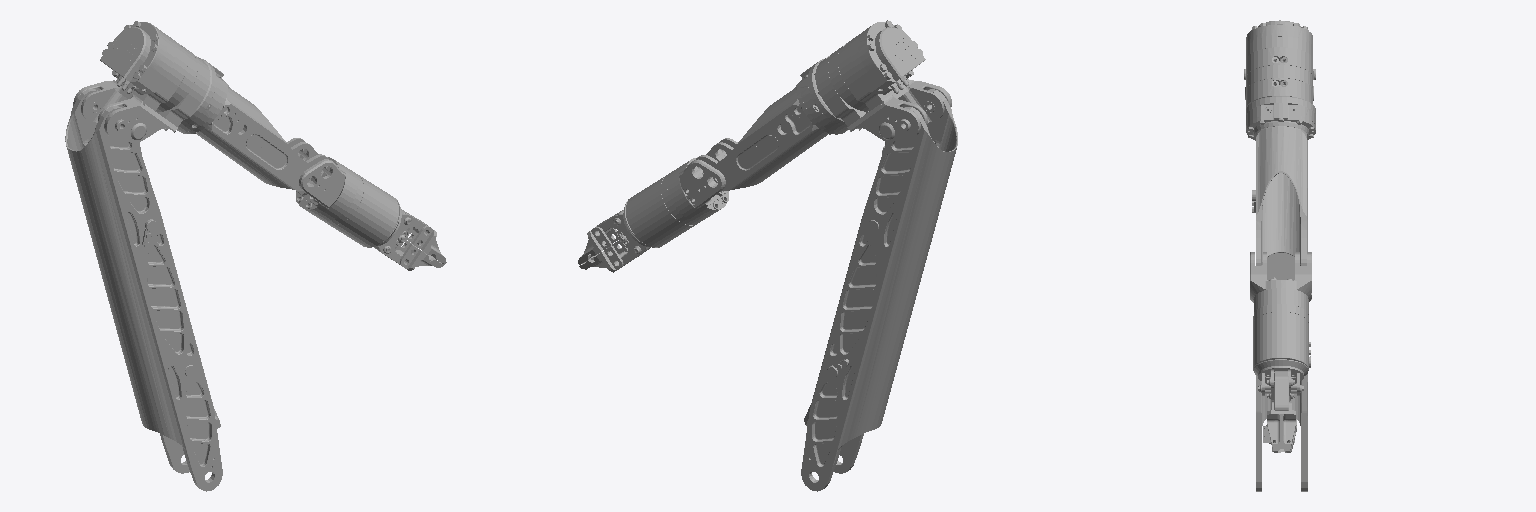
The robot description file, URDF, robot "orion":
<?xml version="1.0" encoding="utf-8"?>
<robot name="orion">
  <!-- ROV + 左臂模型（来自 rov_urdf/orion_left.urdf），mesh 路径相对本 urdf：meshes/stl/ -->
  <!-- 规划用碰撞体与 visual 一致；需在 web/robot/meshes/stl/ 下放置 arm_base_link_left.stl 与 Link1..Link8.stl -->
  <!-- KDL 要求根 link 无惯性，故增加虚拟根 world，arm_base_link 为其固定子 link -->

  <!-- ==================== LINKS ==================== -->

  <link name="world">
    <!-- 虚拟根，无几何无惯性，仅用于满足 KDL 对根 link 的要求 -->
  </link>

  <joint name="world_joint" type="fixed">
    <parent link="world"/>
    <child link="arm_base_link"/>
    <origin xyz="0.0 0.0 0.0" rpy="0.0 0.0 0.0"/>
  </joint>

  <link name="arm_base_link">
    <visual>
      <geometry><mesh filename="meshes/stl/arm_base_link_left.stl"/></geometry>
      <material name="grey"><color rgba="0.7 0.7 0.7 1.0"/></material>
    </visual>
    <!-- 碰撞用简单 box，避免 ROV mesh 顶点过多导致 PlanningScene 超时；尺寸可依实机调整 -->
    <collision>
      <origin xyz="0.0 0.0 0.0" rpy="0.0 0.0 0.0"/>
      <geometry><box size="0.6 0.4 0.35"/></geometry>
    </collision>
    <inertial>
      <mass value="1.0"/>
      <inertia ixx="0.01" ixy="0.0" ixz="0.0" iyy="0.01" iyz="0.0" izz="0.01"/>
    </inertial>
  </link>

  <link name="Link1">
    <visual>
      <geometry><mesh filename="meshes/stl/Link1.stl"/></geometry>
      <material name="grey"><color rgba="0.7 0.7 0.7 1.0"/></material>
    </visual>
    <collision>
      <geometry><mesh filename="meshes/stl/Link1.stl"/></geometry>
    </collision>
    <inertial>
      <mass value="1.0"/>
      <inertia ixx="0.01" ixy="0.0" ixz="0.0" iyy="0.01" iyz="0.0" izz="0.01"/>
    </inertial>
  </link>

  <link name="Link2">
    <visual>
      <geometry><mesh filename="meshes/stl/Link2.stl"/></geometry>
      <material name="grey"><color rgba="0.7 0.7 0.7 1.0"/></material>
    </visual>
    <collision>
      <geometry><mesh filename="meshes/stl/Link2.stl"/></geometry>
    </collision>
    <inertial>
      <mass value="1.0"/>
      <inertia ixx="0.01" ixy="0.0" ixz="0.0" iyy="0.01" iyz="0.0" izz="0.01"/>
    </inertial>
  </link>

  <link name="Link3">
    <visual>
      <geometry><mesh filename="meshes/stl/Link3.stl"/></geometry>
      <material name="grey"><color rgba="0.7 0.7 0.7 1.0"/></material>
    </visual>
    <collision>
      <geometry><mesh filename="meshes/stl/Link3.stl"/></geometry>
    </collision>
    <inertial>
      <mass value="1.0"/>
      <inertia ixx="0.01" ixy="0.0" ixz="0.0" iyy="0.01" iyz="0.0" izz="0.01"/>
    </inertial>
  </link>

  <link name="LinkVirtual">
    <inertial>
      <mass value="0.001"/>
      <inertia ixx="0.0001" ixy="0.0" ixz="0.0" iyy="0.0001" iyz="0.0" izz="0.0001"/>
    </inertial>
  </link>

  <link name="Link4">
    <visual>
      <geometry><mesh filename="meshes/stl/Link4.stl"/></geometry>
      <material name="grey"><color rgba="0.7 0.7 0.7 1.0"/></material>
    </visual>
    <collision>
      <geometry><mesh filename="meshes/stl/Link4.stl"/></geometry>
    </collision>
    <inertial>
      <mass value="1.0"/>
      <inertia ixx="0.01" ixy="0.0" ixz="0.0" iyy="0.01" iyz="0.0" izz="0.01"/>
    </inertial>
  </link>

  <link name="Link5">
    <visual>
      <geometry><mesh filename="meshes/stl/Link5.stl"/></geometry>
      <material name="grey"><color rgba="0.7 0.7 0.7 1.0"/></material>
    </visual>
    <collision>
      <geometry><mesh filename="meshes/stl/Link5.stl"/></geometry>
    </collision>
    <inertial>
      <mass value="1.0"/>
      <inertia ixx="0.01" ixy="0.0" ixz="0.0" iyy="0.01" iyz="0.0" izz="0.01"/>
    </inertial>
  </link>

  <link name="Link6">
    <visual>
      <geometry><mesh filename="meshes/stl/Link6.stl"/></geometry>
      <material name="grey"><color rgba="0.7 0.7 0.7 1.0"/></material>
    </visual>
    <collision>
      <geometry><mesh filename="meshes/stl/Link6.stl"/></geometry>
    </collision>
    <inertial>
      <mass value="1.0"/>
      <inertia ixx="0.01" ixy="0.0" ixz="0.0" iyy="0.01" iyz="0.0" izz="0.01"/>
    </inertial>
  </link>

  <!-- 夹爪 TCP：用于规划/IK 的末端参考点（Link6 +Z 方向的接触点附近） -->
  <link name="gripper_tcp"/>

  <!-- 插孔专用 IK 参考点（与 src/sealien_ctrlpilot_manipulator_orion_description/urdf/orion.urdf 保持同步） -->
  <link name="peg_tip"/>

  <link name="Link7">
    <visual>
      <geometry><mesh filename="meshes/stl/Link7.stl"/></geometry>
      <material name="grey"><color rgba="0.7 0.7 0.7 1.0"/></material>
    </visual>
    <collision>
      <geometry><mesh filename="meshes/stl/Link7.stl"/></geometry>
    </collision>
    <inertial>
      <mass value="1.0"/>
      <inertia ixx="0.01" ixy="0.0" ixz="0.0" iyy="0.01" iyz="0.0" izz="0.01"/>
    </inertial>
  </link>

  <link name="Link8">
    <visual>
      <geometry><mesh filename="meshes/stl/Link8.stl"/></geometry>
      <material name="grey"><color rgba="0.7 0.7 0.7 1.0"/></material>
    </visual>
    <collision>
      <geometry><mesh filename="meshes/stl/Link8.stl"/></geometry>
    </collision>
    <inertial>
      <mass value="1.0"/>
      <inertia ixx="0.01" ixy="0.0" ixz="0.0" iyy="0.01" iyz="0.0" izz="0.01"/>
    </inertial>
  </link>

  <!-- ==================== JOINTS ==================== -->
  <!-- 标称：方位/肩/肘/腕俯仰 ±120°；前臂 roll ±180°；腕 roll 连续；夹爪 ±90° -->

  <joint name="joint_arm_base_link_Link1" type="revolute">
    <parent link="arm_base_link"/>
    <child link="Link1"/>
    <origin xyz="0.0 0.0 0.0" rpy="0.0 0.0 0.0"/>
    <axis xyz="1 0 0"/>
    <limit lower="-2.09440" upper="2.09440" effort="100" velocity="1.0"/>
  </joint>

  <joint name="joint_Link1_Link2" type="revolute">
    <parent link="Link1"/>
    <child link="Link2"/>
    <origin xyz="-0.0105 0.0 0.0699" rpy="0.0 0.0 0.0"/>
    <axis xyz="0 1 0"/>
    <limit lower="-2.09440" upper="2.09440" effort="100" velocity="1.0"/>
  </joint>

  <joint name="joint_Link2_Link3" type="revolute">
    <parent link="Link2"/>
    <child link="Link3"/>
    <origin xyz="-0.2247 0.0 0.8662" rpy="0.0 0.0 0.0"/>
    <axis xyz="0 1 0"/>
    <limit lower="-2.09440" upper="2.09440" effort="100" velocity="1.0"/>
  </joint>

  <joint name="joint_Link3_LinkVirtual" type="fixed">
    <parent link="Link3"/>
    <child link="LinkVirtual"/>
    <origin xyz="0.1835 0.0 0.0157" rpy="0.0 -3.97248 0.0"/>
  </joint>

  <!-- J4：标称由 ±270° 收紧为 ±180°，与规划/仿真环绕稳定性一致 -->
  <joint name="joint_LinkVirtual_Link4" type="revolute">
    <parent link="LinkVirtual"/>
    <child link="Link4"/>
    <origin xyz="0.0 0.0 0.0" rpy="0.0 0.0 0.0"/>
    <axis xyz="0 0 1"/>
    <limit lower="-3.14159" upper="3.14159" effort="100" velocity="1.0"/>
  </joint>

  <joint name="joint_Link4_Link5" type="revolute">
    <parent link="Link4"/>
    <child link="Link5"/>
    <origin xyz="0.0 -0.0091 0.3784" rpy="0.0 0.0 0.0"/>
    <axis xyz="0 1 0"/>
    <limit lower="-2.09440" upper="2.09440" effort="100" velocity="1.0"/>
  </joint>

  <joint name="joint_Link5_Link6" type="revolute">
    <parent link="Link5"/>
    <child link="Link6"/>
    <origin xyz="-0.0113 0.0091 0.2516" rpy="0.0 0.0 0.0"/>
    <axis xyz="0 0 1"/>
    <limit lower="-3.14159" upper="3.14159" effort="100" velocity="1.0"/>
  </joint>

  <joint name="joint_Link6_gripper_tcp" type="fixed">
    <parent link="Link6"/>
    <child link="gripper_tcp"/>
    <!-- 规划 TCP：Link6 +Z 朝夹爪前方；z 较指间接触区略短会导致指尖够不到，略长则腕可稍后撤 -->
    <origin xyz="0.0 0.0 0.148" rpy="0.0 0.0 0.0"/>
  </joint>

  <joint name="joint_gripper_tcp_peg_tip" type="fixed">
    <parent link="gripper_tcp"/>
    <child link="peg_tip"/>
    <origin xyz="0.0 -0.08 0.035" rpy="0.0 0.0 0.0"/>
  </joint>

  <joint name="joint_Link6_Link7" type="revolute">
    <parent link="Link6"/>
    <child link="Link7"/>
    <origin xyz="0.0363 0.0 0.0499" rpy="0.0 0.0 0.0"/>
    <axis xyz="0 1 0"/>
    <limit lower="-1.57080" upper="1.57080" effort="100" velocity="1.0"/>
  </joint>

  <joint name="joint_Link6_Link8" type="revolute">
    <parent link="Link6"/>
    <child link="Link8"/>
    <origin xyz="-0.0363 0.0 0.047" rpy="0.0 0.0 0.0"/>
    <axis xyz="0 1 0"/>
    <limit lower="-1.57080" upper="1.57080" effort="100" velocity="1.0"/>
  </joint>

</robot>

--- Facts derived from the render (not from the file) ---
The picture shows the robot from 3 angles, left to right: view 1: azimuth 30°, elevation 25°; view 2: azimuth 150°, elevation 25°; view 3: azimuth 270°, elevation 25°; orthographic projection.
Robot: orion — 13 links, 12 joints (8 revolute, 4 fixed); root link world; default pose: every joint at zero.
Visible links, largest first — view 1: Link2, Link3, Link4, Link5, Link8, Link7, Link6; view 2: Link2, Link3, Link4, Link5, Link7, Link8, Link6; view 3: Link4, Link5, Link3, Link2, Link8, Link6.
Boxes of the visible links, box(x1,y1,x2,y2) form: Link2: box(65, 89, 222, 491); Link3: box(73, 21, 210, 142); Link4: box(177, 58, 314, 190); Link5: box(287, 138, 398, 246); Link8: box(401, 209, 446, 264); Link7: box(374, 240, 443, 270); Link6: box(363, 198, 412, 254); Link2: box(801, 89, 957, 491); Link3: box(815, 20, 951, 141); Link4: box(710, 59, 848, 190); Link5: box(626, 138, 737, 247); Link7: box(579, 241, 650, 272); Link8: box(578, 210, 623, 264); Link6: box(612, 199, 659, 254); Link4: box(1246, 96, 1315, 265); Link5: box(1250, 252, 1311, 369); Link3: box(1244, 20, 1315, 108); Link2: box(1252, 140, 1310, 491); Link8: box(1267, 371, 1295, 451); Link6: box(1253, 359, 1308, 400).
Bounding box of the posed robot: 0.895 × 0.157 × 1.07 m (x, y, z).
Meshes: 9 distinct files referenced, 7 mesh visuals loaded (7 binary STL); not drawn: 2 (reference not matched to a file when rendering).
